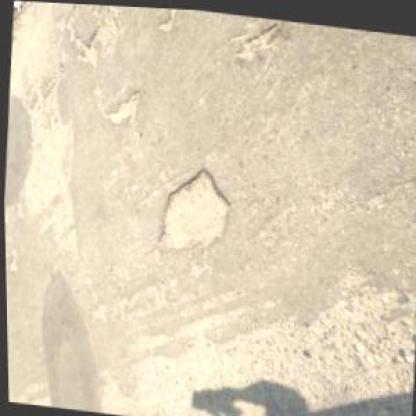pothole: (150, 157, 234, 260), (233, 14, 281, 61), (101, 82, 143, 126), (73, 25, 104, 68)
